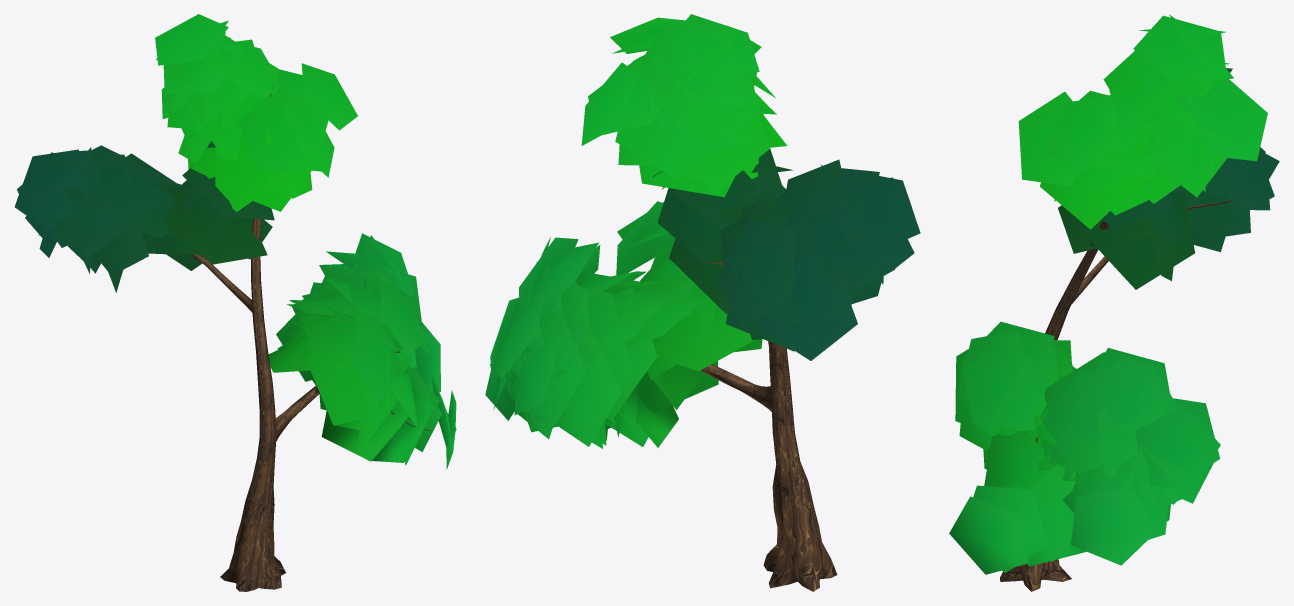
Rendered from FantasyTree1.fbx.
3 views of the same model, side by side, from view 1: azimuth 30°, elevation 25°; view 2: azimuth 150°, elevation 25°; view 3: azimuth 270°, elevation 25° (orthographic). The views are drawn at different scales.
Parts seen in each view (by area): view 1: fantasyleaf1_1, tree2_0; view 2: fantasyleaf1_1, tree2_0; view 3: fantasyleaf1_1, tree2_0.
Boxes of the visible parts, bbox=[...] form: fantasyleaf1_1: bbox=[14, 14, 456, 469]; tree2_0: bbox=[191, 84, 433, 591]; fantasyleaf1_1: bbox=[485, 14, 920, 448]; tree2_0: bbox=[700, 260, 837, 591]; fantasyleaf1_1: bbox=[949, 14, 1279, 574]; tree2_0: bbox=[1000, 198, 1236, 591].
Size of the model in its own units: 328 by 413 by 221.
1 material, 1 textured.
